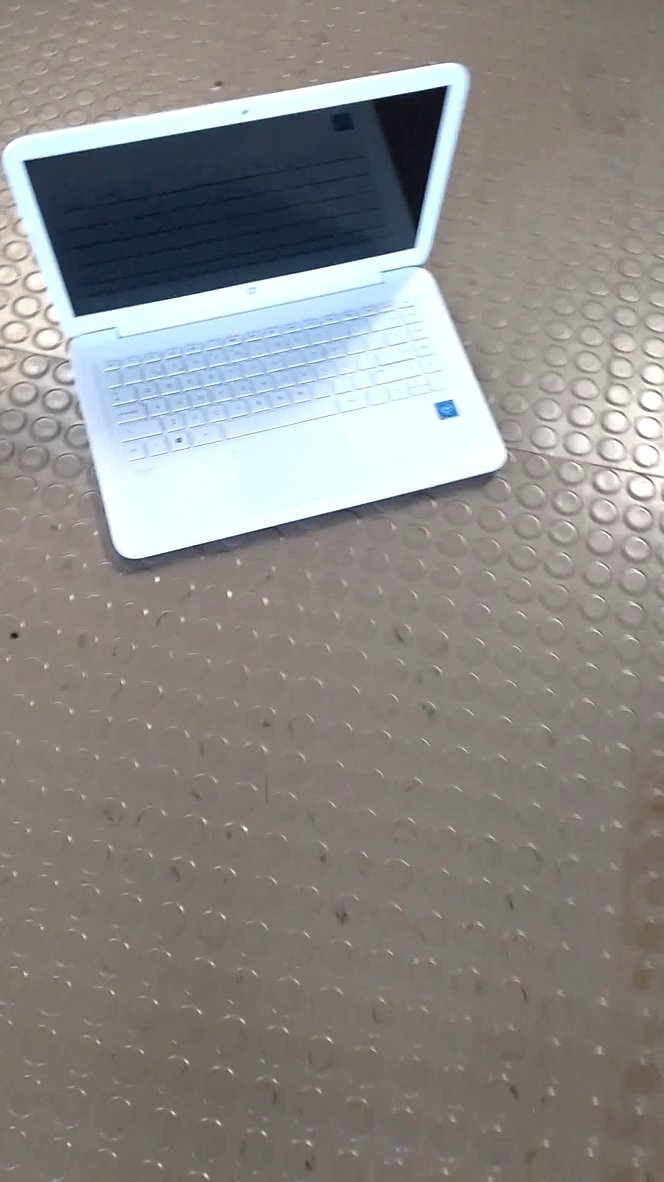laptop: (2, 47, 519, 575)
